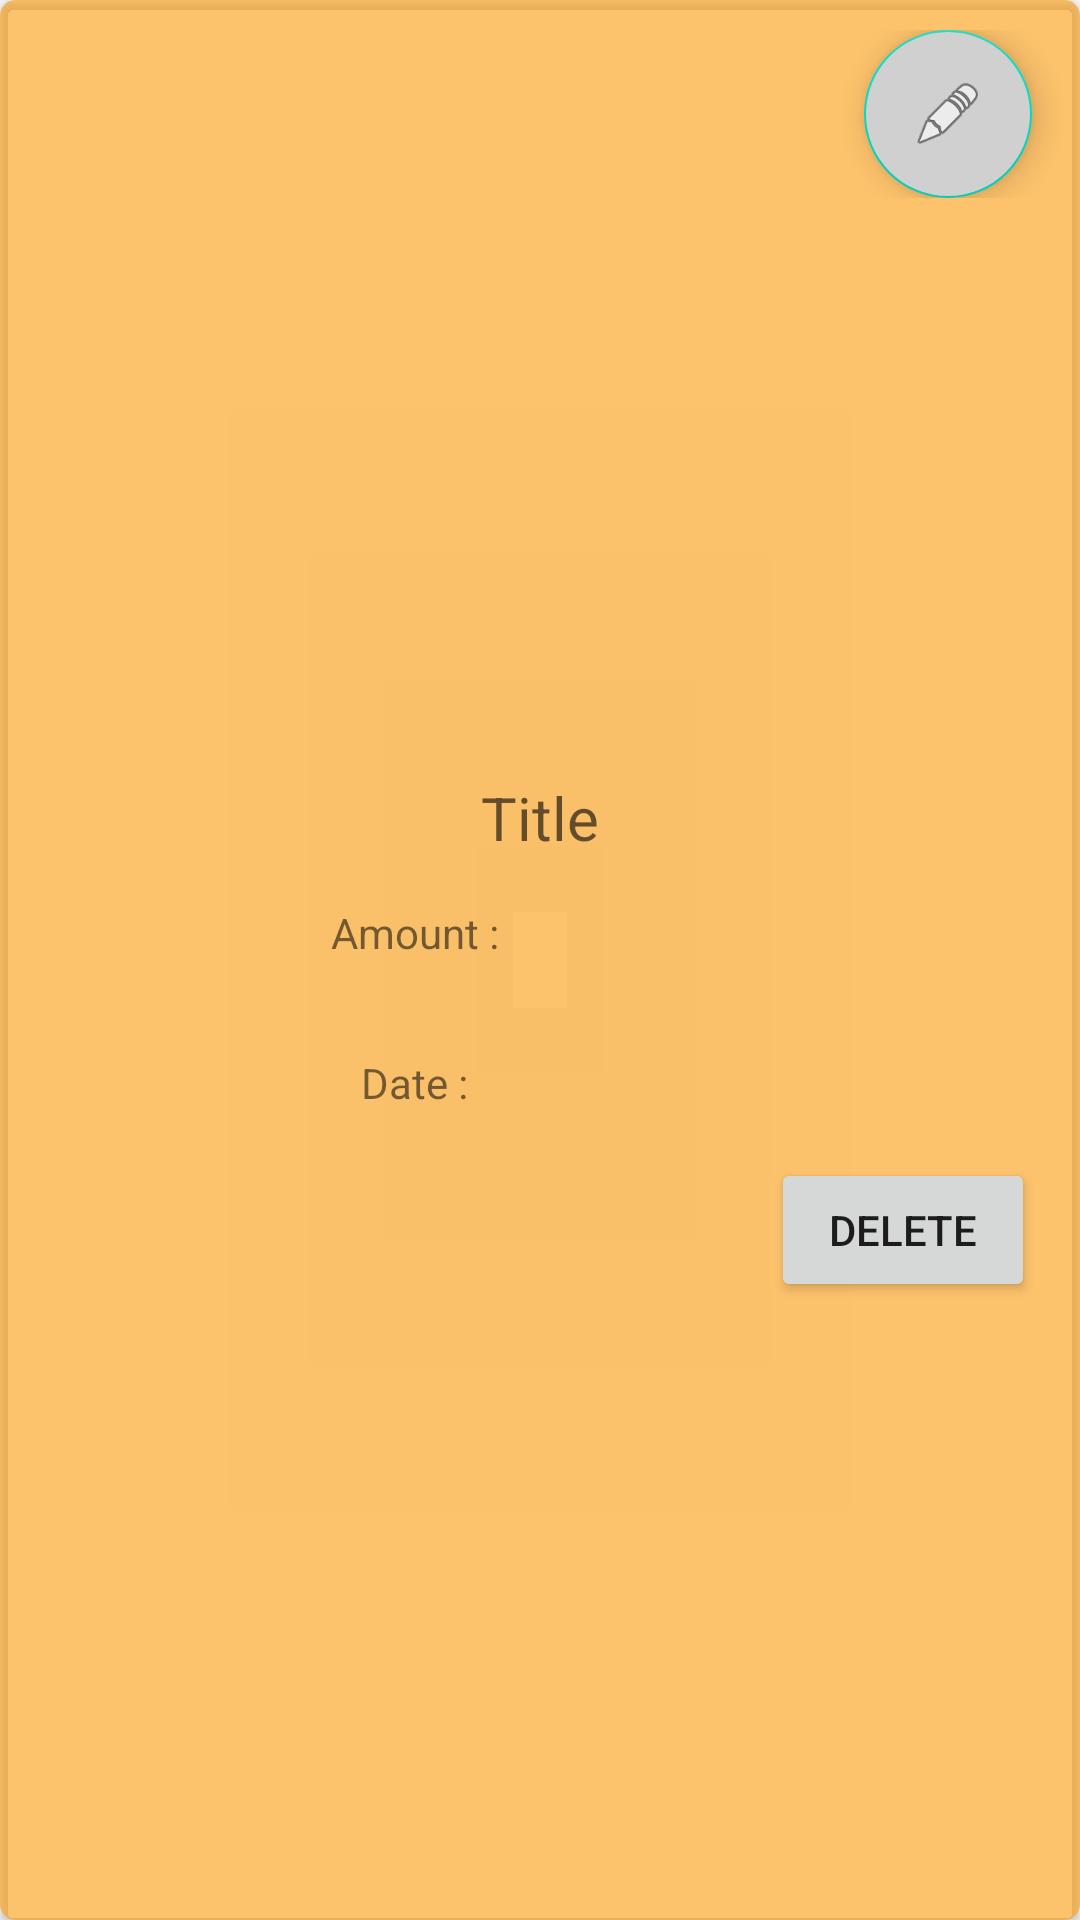

Screen size 1080w x 1920h. Icon name, then its center in pixels as [x,y]:
edit: [948,114]
